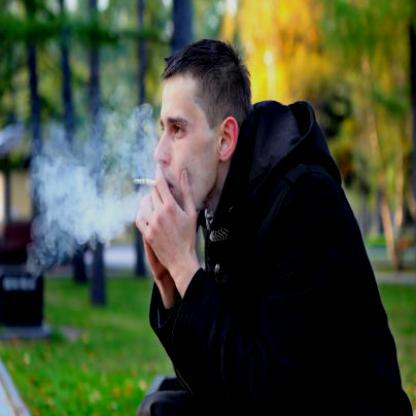cigarette: (132, 177, 158, 188)
person: (141, 35, 350, 415)
smoke: (32, 138, 130, 250), (122, 118, 158, 178)
